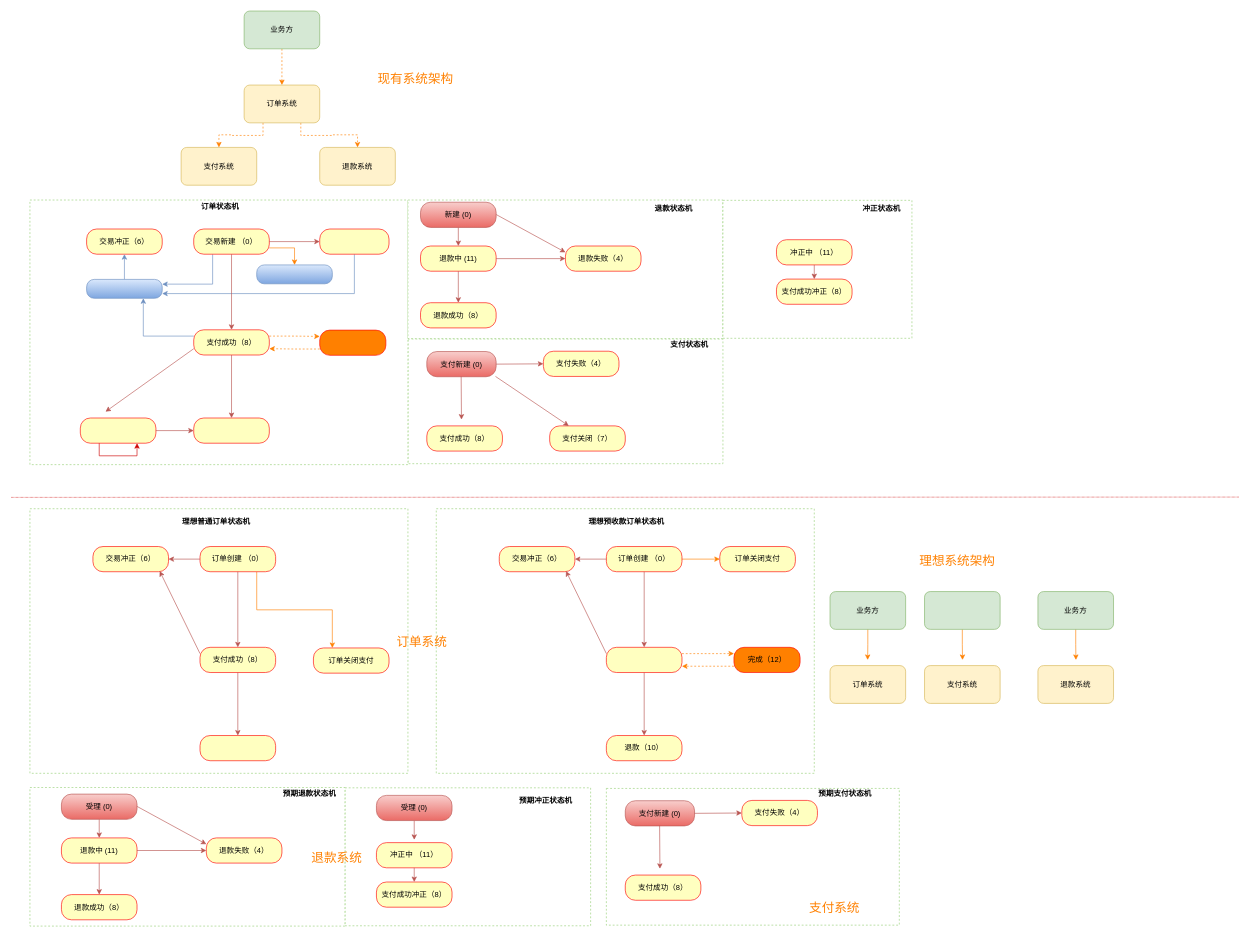
Image size: 1251x937. Some labels were removed from this diagram. The shapes that lost their labels are listed below. From the top down, each one's centre as x and y in pixels, then its label:
At point 354,241: "交易失败（4）".
At point 124,288: "冲正中(5)".
At point 294,274: "关闭".
At point 352,342: "预收款完成（12）".
At point 118,430: "交易半退（9）".
At point 231,430: "交易退款（10）".
At point 962,610: "收银台".
At point 644,660: "预收款（8）".
At point 237,748: "有退款（10）".
